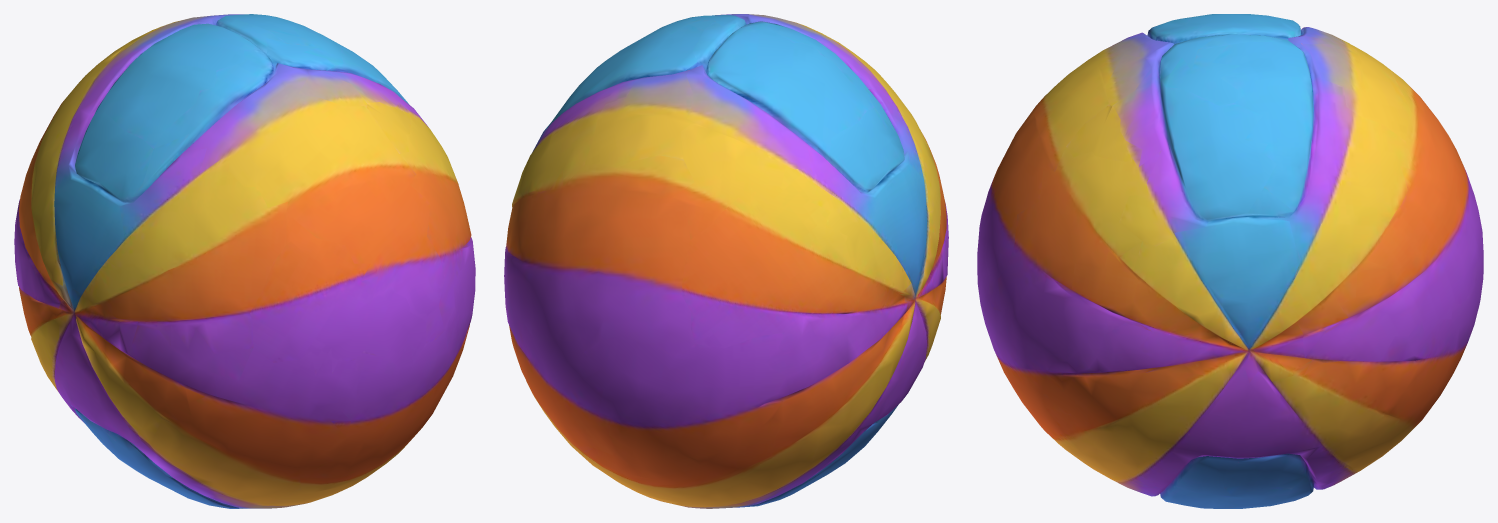
File: beach_ball.glb
The picture shows the model from 3 angles, left to right: view 1: azimuth 30°, elevation 25°; view 2: azimuth 150°, elevation 25°; view 3: azimuth 270°, elevation 25°; orthographic projection.
Visible parts, largest first — view 1: tripo_node_002961e8-b4bf-4343-8560-65df0b8e8e48; view 2: tripo_node_002961e8-b4bf-4343-8560-65df0b8e8e48; view 3: tripo_node_002961e8-b4bf-4343-8560-65df0b8e8e48.
Part boxes in pixels (<box>): tripo_node_002961e8-b4bf-4343-8560-65df0b8e8e48: <box>14,14,475,508</box>; tripo_node_002961e8-b4bf-4343-8560-65df0b8e8e48: <box>504,14,948,508</box>; tripo_node_002961e8-b4bf-4343-8560-65df0b8e8e48: <box>977,14,1483,508</box>.
Bounding box in the file's own units: 0.2568 × 0.3 × 0.2996.
1 material, 1 textured.
